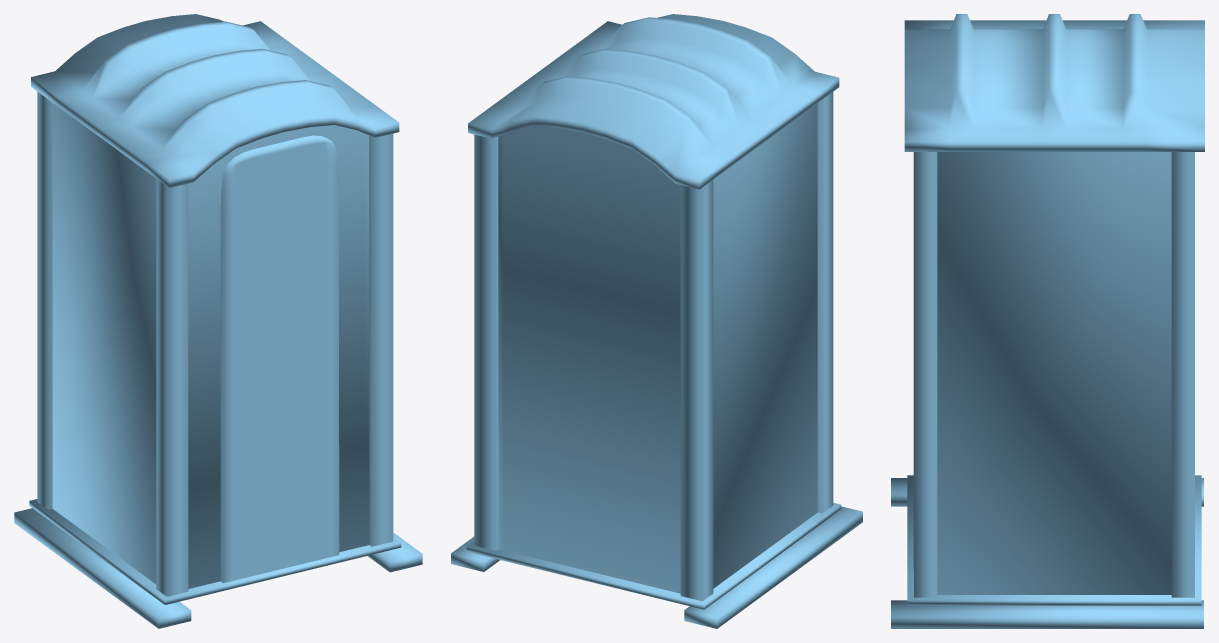
The model's file is SM_Portaloo.FBX.
3 renders of one model, left to right at view 1: azimuth 30°, elevation 25°; view 2: azimuth 150°, elevation 25°; view 3: azimuth 270°, elevation 25°, orthographic. The views are drawn at different scales.
Visible parts, largest first — view 1: Loo_LP, Door_LP, Top_LP, Corner_LP, Plank_LP, Bottom_LP; view 2: Loo_LP, Top_LP, Corner_LP, Plank_LP, Bottom_LP; view 3: Loo_LP, Top_LP, Corner_LP, Plank_LP, Bottom_LP.
Part boxes in pixels (<box>): Loo_LP: <box>52,103,369,588</box>; Door_LP: <box>220,135,339,583</box>; Top_LP: <box>31,14,399,187</box>; Corner_LP: <box>37,91,393,596</box>; Plank_LP: <box>14,508,422,628</box>; Bottom_LP: <box>29,499,401,604</box>; Loo_LP: <box>498,103,817,593</box>; Top_LP: <box>468,14,839,189</box>; Corner_LP: <box>474,92,833,601</box>; Plank_LP: <box>451,506,862,628</box>; Bottom_LP: <box>466,502,841,609</box>; Loo_LP: <box>937,152,1171,594</box>; Top_LP: <box>904,14,1204,151</box>; Corner_LP: <box>914,152,1194,597</box>; Plank_LP: <box>891,478,1203,628</box>; Bottom_LP: <box>907,475,1201,605</box>.
Size of the model in its own units: 141 by 247 by 134.
